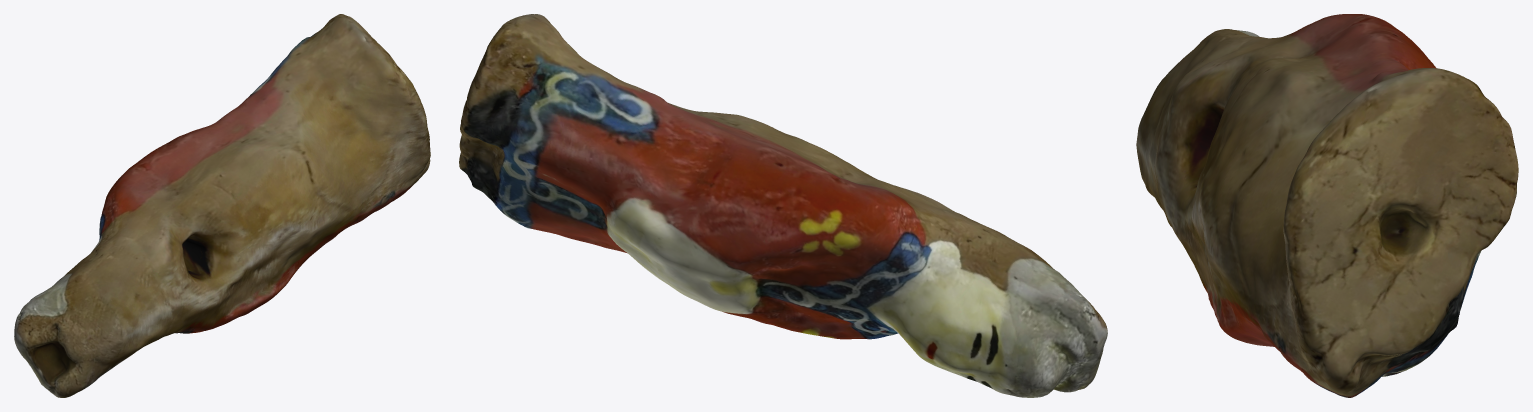
3 renders of one model, left to right at view 1: azimuth 30°, elevation 25°; view 2: azimuth 150°, elevation 25°; view 3: azimuth 270°, elevation 25°, orthographic. The views are drawn at different scales.
Bounding box in the file's own units: 0.7153 × 0.3747 × 0.2923.
Materials: 1 (1 with a texture image).
